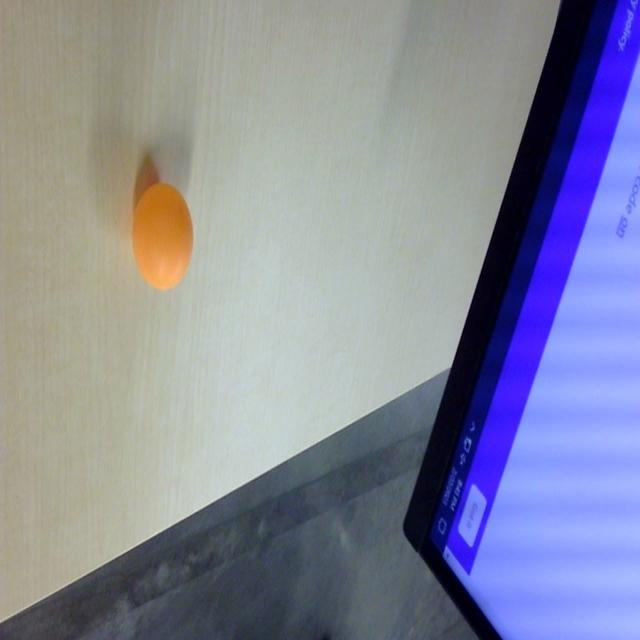ball: (130, 182, 194, 293)
